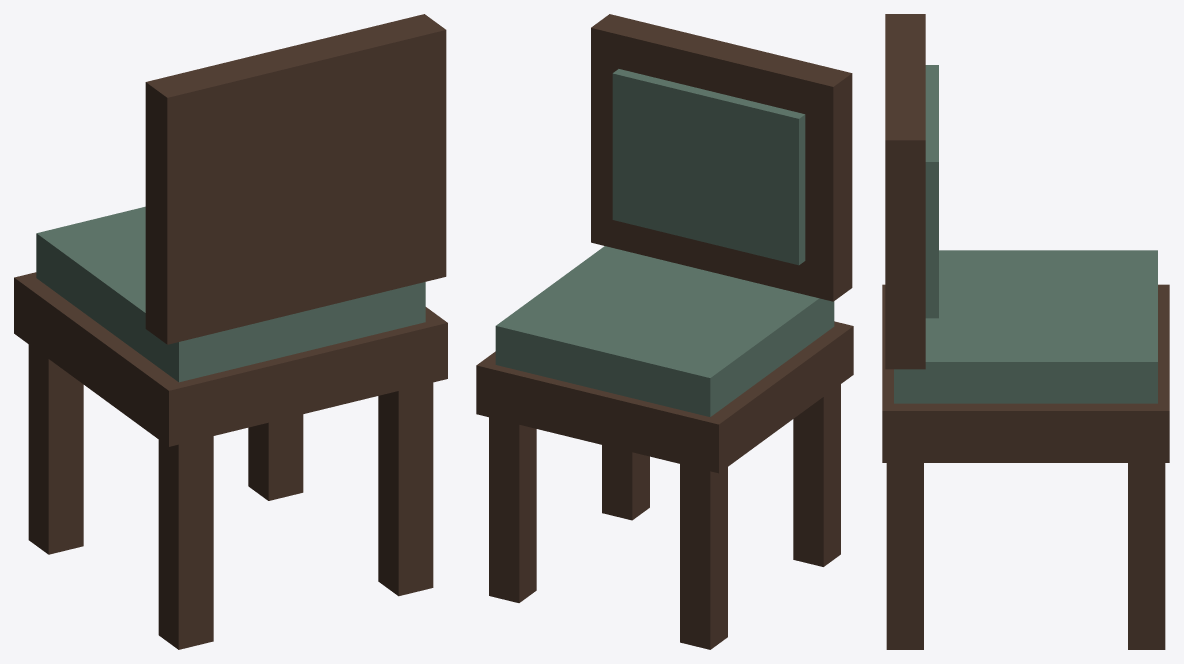
Rendered from LP_ReceptionChair.fbx.
3 renders of one model, left to right at view 1: azimuth 30°, elevation 25°; view 2: azimuth 150°, elevation 25°; view 3: azimuth 270°, elevation 25°, orthographic. The views are drawn at different scales.
Parts seen in each view (by area): view 1: Walnut, SageUpholstery; view 2: Walnut, SageUpholstery; view 3: Walnut, SageUpholstery.
Part boxes in pixels (bbox=[...]): Walnut: bbox=[14, 14, 447, 649]; SageUpholstery: bbox=[36, 206, 425, 382]; Walnut: bbox=[476, 14, 853, 649]; SageUpholstery: bbox=[495, 69, 834, 416]; Walnut: bbox=[882, 14, 1169, 649]; SageUpholstery: bbox=[894, 65, 1157, 403].
Bounding box in the file's own units: 52 × 99 × 50.
